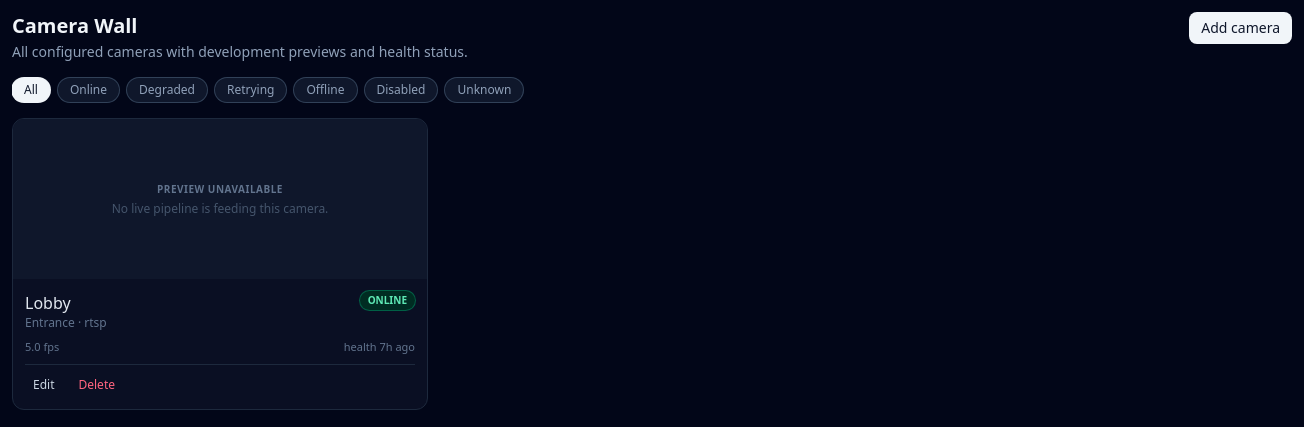
Test: status filter narrows the visible cameras
Expected: the list item with test id "camera-tile-cam1" is shown, [12,118,428,410]
What coordinates should you click on to do the following:
click the button with test id "filter-offline"
I would click on:
 (326, 90)
Its box is [294,78,356,102].
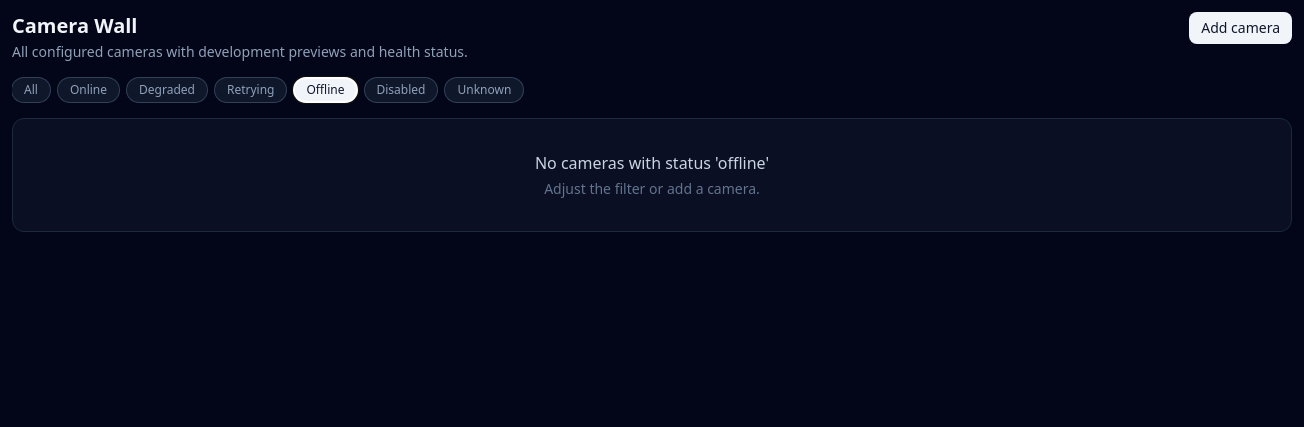
Now the list item with test id "camera-tile-cam1" is gone
Now the text "No cameras with status 'offline'" is shown, box [535,152,769,174]
